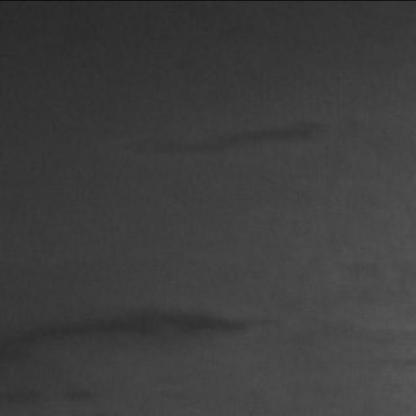inclusion: (14, 302, 274, 356), (175, 110, 335, 164)
